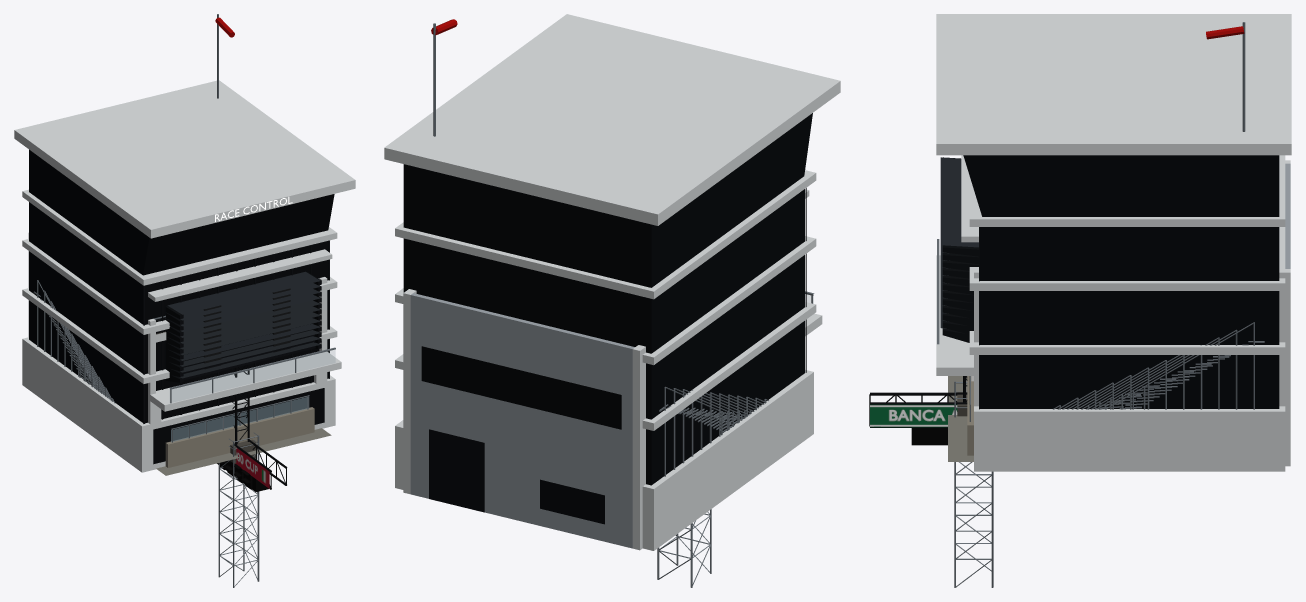
Rendered from trackside.glb.
The picture shows the model from 3 angles, left to right: view 1: azimuth 30°, elevation 25°; view 2: azimuth 150°, elevation 25°; view 3: azimuth 270°, elevation 25°; orthographic projection. The views are drawn at different scales.
Parts seen in each view (by area): view 1: RaceControl, PitBay, StandFrame_T03, StandFrame_T04, StandFrame_T14, TvTower, PitEndL, StandFrame_T06, StandFrame_T05, GantryBeam, StandFrame_T07, StandFrame_T08 (+8 smaller); view 2: RaceControl, PitBay, PitEndL, PitEndR, TvTower; view 3: RaceControl, PitBay, PitEndR, GantryBeam, StandFrame_T14, TvTower, StandEndR_T14, StandEndR_T13, StandEndR_T12, StandEndR_T11, StandEndR_T10, GantryLights (+2 smaller).
Part boxes in pixels (<box>): RaceControl: <box>14,14,355,472</box>; PitBay: <box>154,250,336,475</box>; StandFrame_T03: <box>165,342,320,466</box>; StandFrame_T04: <box>165,336,320,441</box>; StandFrame_T14: <box>165,271,319,318</box>; TvTower: <box>218,432,259,587</box>; PitEndL: <box>28,233,170,469</box>; StandFrame_T06: <box>165,324,319,365</box>; StandFrame_T05: <box>165,330,320,371</box>; GantryBeam: <box>234,440,287,489</box>; StandFrame_T07: <box>165,318,320,359</box>; StandFrame_T08: <box>165,312,320,353</box>; RaceControl: <box>384,14,840,550</box>; PitBay: <box>410,291,814,548</box>; PitEndL: <box>632,189,822,550</box>; PitEndR: <box>403,289,416,494</box>; TvTower: <box>657,509,711,587</box>; RaceControl: <box>936,14,1291,471</box>; PitBay: <box>936,155,1290,461</box>; PitEndR: <box>936,233,1290,466</box>; GantryBeam: <box>869,392,967,427</box>; StandFrame_T14: <box>940,157,978,247</box>; TvTower: <box>954,381,993,587</box>; StandEndR_T14: <box>942,245,1264,409</box>; StandEndR_T13: <box>942,253,1237,409</box>; StandEndR_T12: <box>942,260,1229,409</box>; StandEndR_T11: <box>942,268,1211,409</box>; StandEndR_T10: <box>942,275,1193,409</box>; GantryLights: <box>911,428,947,445</box>.
Bounding box in the file's own units: 14.8 × 32.42 × 20.34.
Materials: 21 (1 with a texture image).
